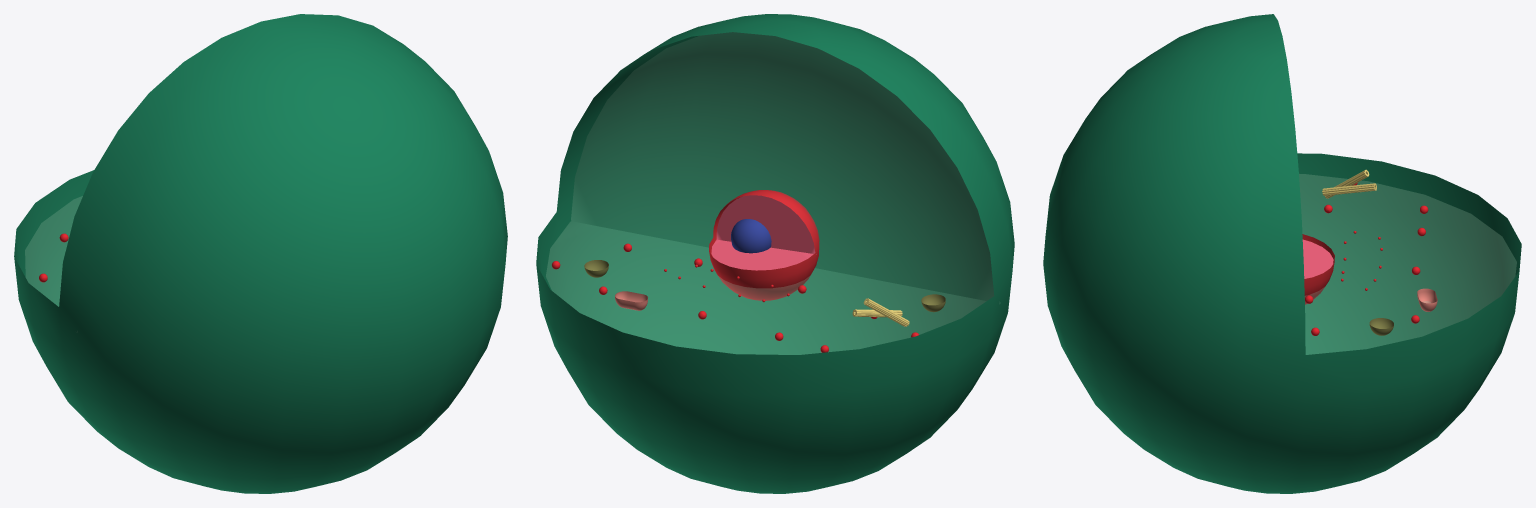
Rendered from eukaryotic.glb.
3 views of the same model, side by side, from view 1: azimuth 30°, elevation 25°; view 2: azimuth 150°, elevation 25°; view 3: azimuth 270°, elevation 25° (orthographic). The views are drawn at different scales.
Parts seen in each view (by area): view 1: Sphere.004, Sphere.005; view 2: Sphere.004, Sphere.005, Sphere.001, Sphere, Sphere.003, Cylinder.004, Mball.001, Sphere.006; view 3: Sphere.004, Sphere.005, Sphere.001, Sphere, Cylinder.004.
Boxes of the visible parts, bbox=[...] form: Sphere.004: bbox=[14, 14, 507, 493]; Sphere.005: bbox=[25, 196, 82, 331]; Sphere.004: bbox=[536, 14, 1014, 493]; Sphere.005: bbox=[546, 32, 993, 354]; Sphere.001: bbox=[711, 195, 816, 270]; Sphere: bbox=[709, 190, 819, 300]; Sphere.003: bbox=[731, 219, 771, 253]; Cylinder.004: bbox=[852, 298, 909, 326]; Mball.001: bbox=[552, 243, 918, 352]; Sphere.006: bbox=[615, 291, 647, 310]; Sphere.004: bbox=[1043, 14, 1521, 493]; Sphere.005: bbox=[1299, 174, 1516, 354]; Sphere.001: bbox=[1302, 239, 1333, 278]; Sphere: bbox=[1302, 234, 1334, 304]; Cylinder.004: bbox=[1322, 169, 1376, 198].
Bounding box in the file's own units: 4.47 × 4.49 × 4.47.
